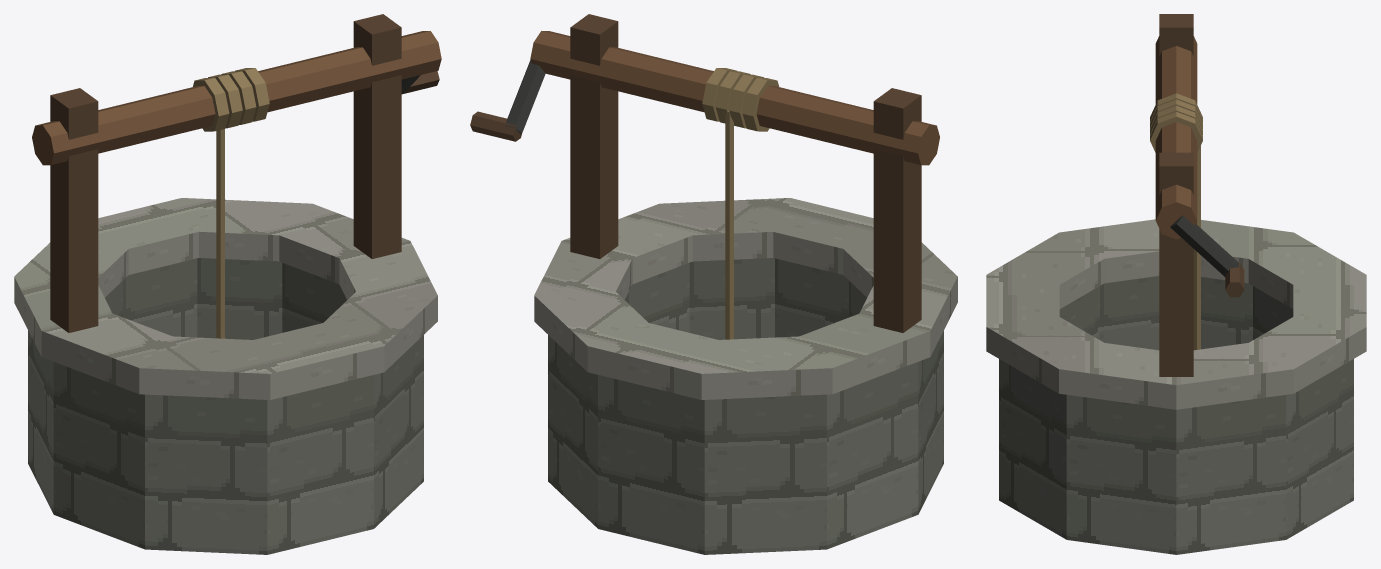
Rendered from yard_well.glb.
3 views of the same model, side by side, from view 1: azimuth 30°, elevation 25°; view 2: azimuth 150°, elevation 25°; view 3: azimuth 270°, elevation 25° (orthographic). The views are drawn at different scales.
Parts seen in each view (by area): view 1: Yard well; view 2: Yard well; view 3: Yard well.
Part boxes in pixels (<box>): Yard well: <box>14,14,441,554</box>; Yard well: <box>470,14,957,554</box>; Yard well: <box>986,14,1366,554</box>.
Bounding box in the file's own units: 1.57 × 1.53 × 1.3.
7 materials, 2 textured.
